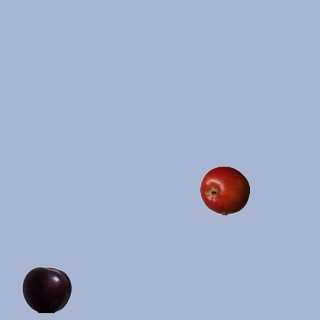Apple Braeburn: (199, 165, 249, 215)
Cherry Wax Black: (21, 264, 71, 314)
